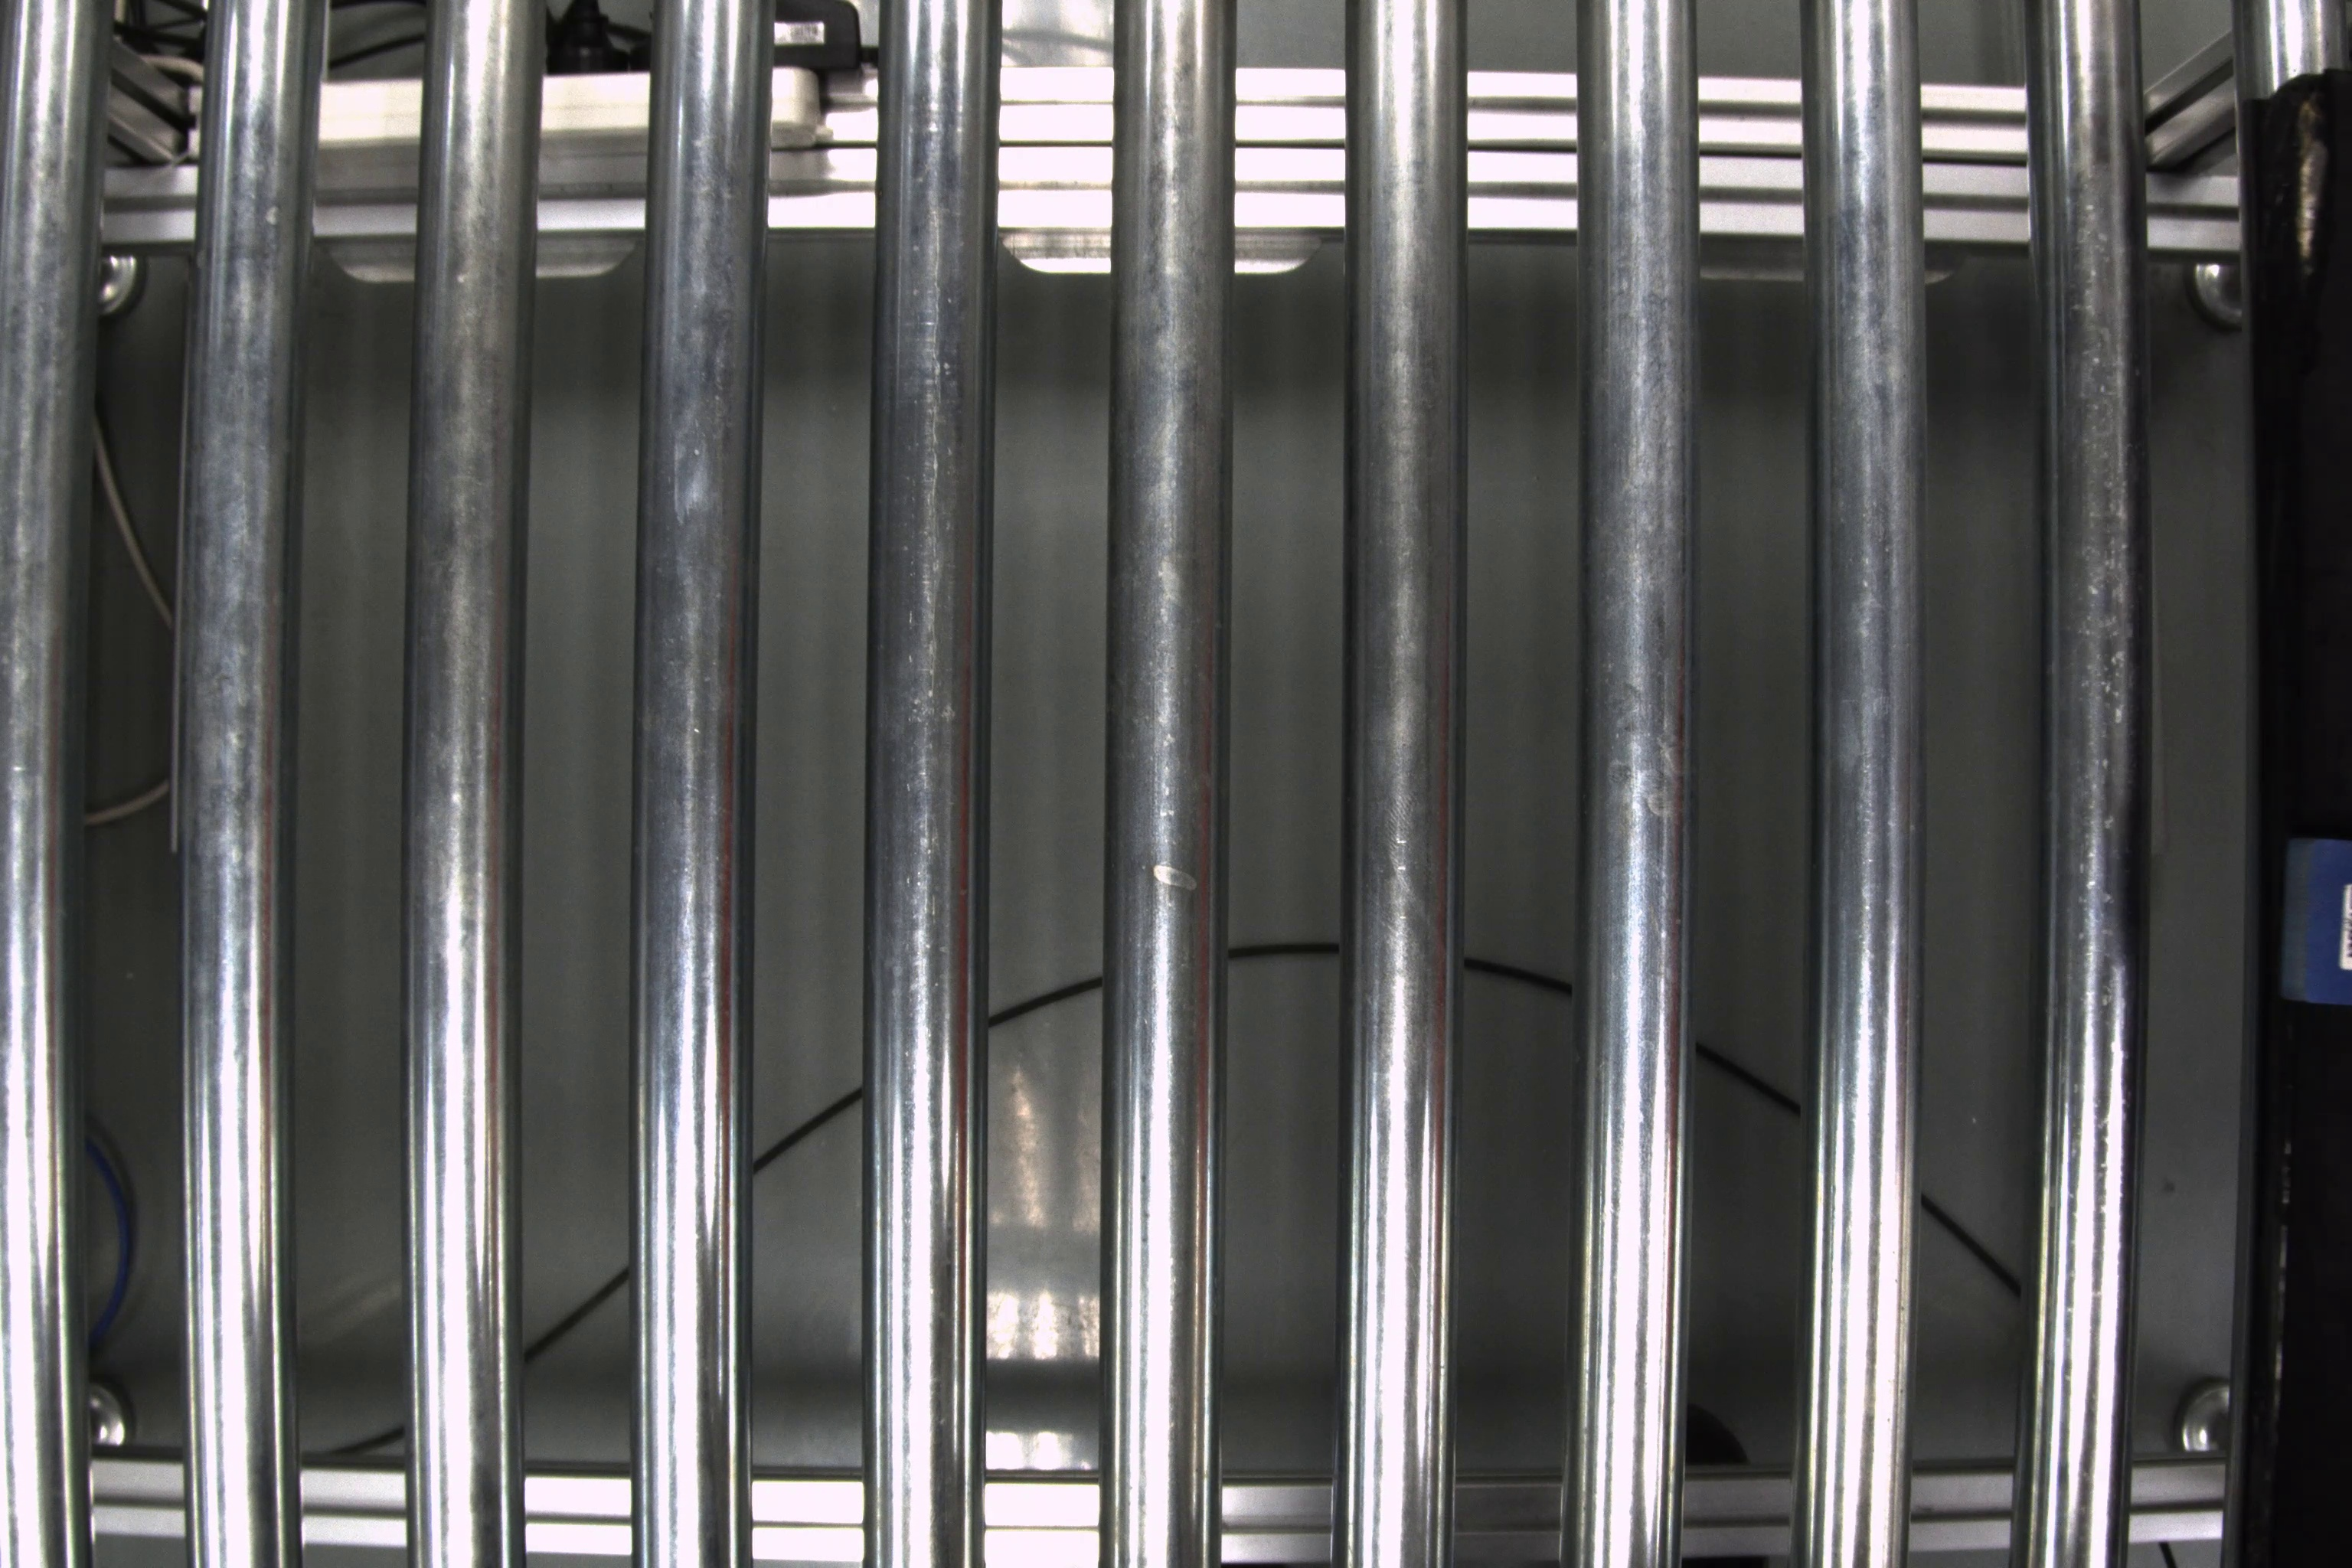wood: (2277, 833, 2352, 1017)
